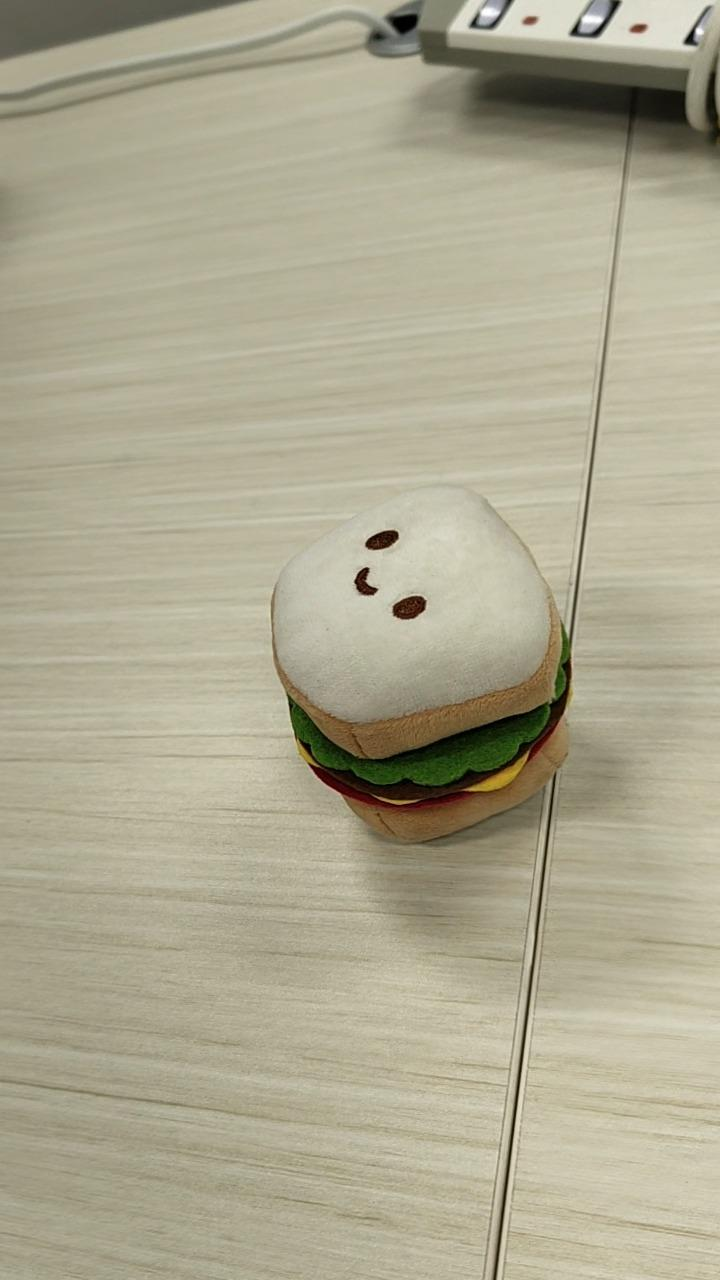objects: (269, 481, 574, 844)
